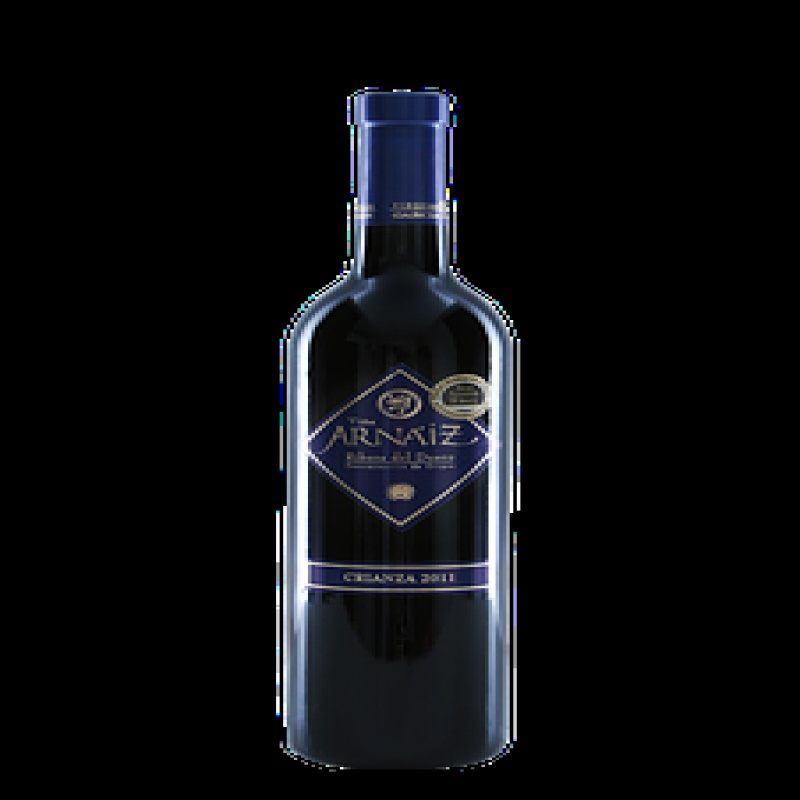wine: (283, 85, 515, 769)
